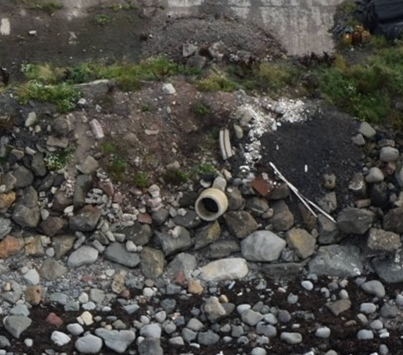tube: (274, 163, 318, 216), (299, 195, 336, 223)
white_in_green: (173, 169, 247, 242)
